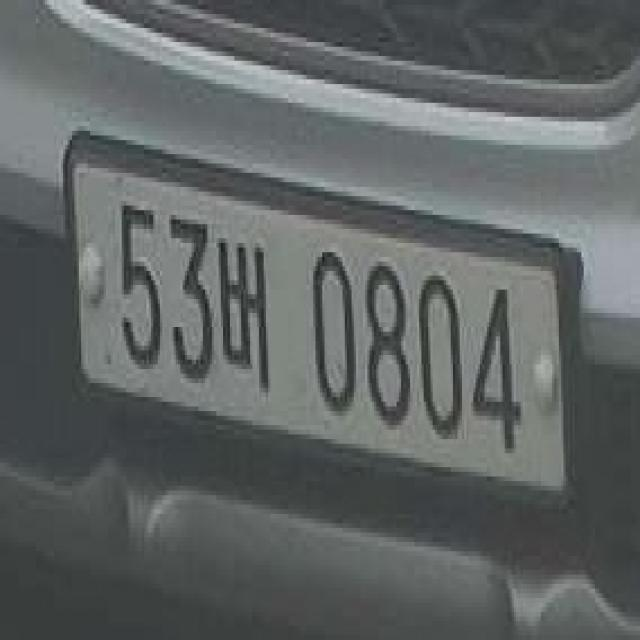0: (414, 271, 466, 453), (309, 248, 363, 416)
3: (160, 182, 214, 402)
4: (473, 257, 528, 476)
5: (106, 187, 164, 369)
8: (367, 252, 415, 444)
beo: (212, 229, 279, 402)
license_plate: (45, 126, 586, 542)
